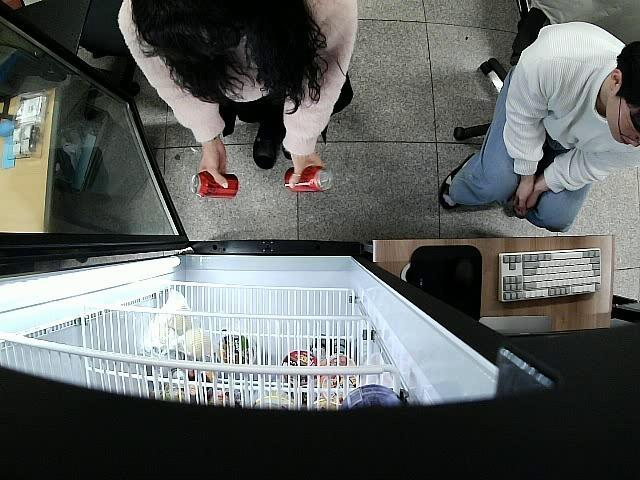11_cocaColaZero: (192, 172, 239, 199), (284, 167, 330, 194)
